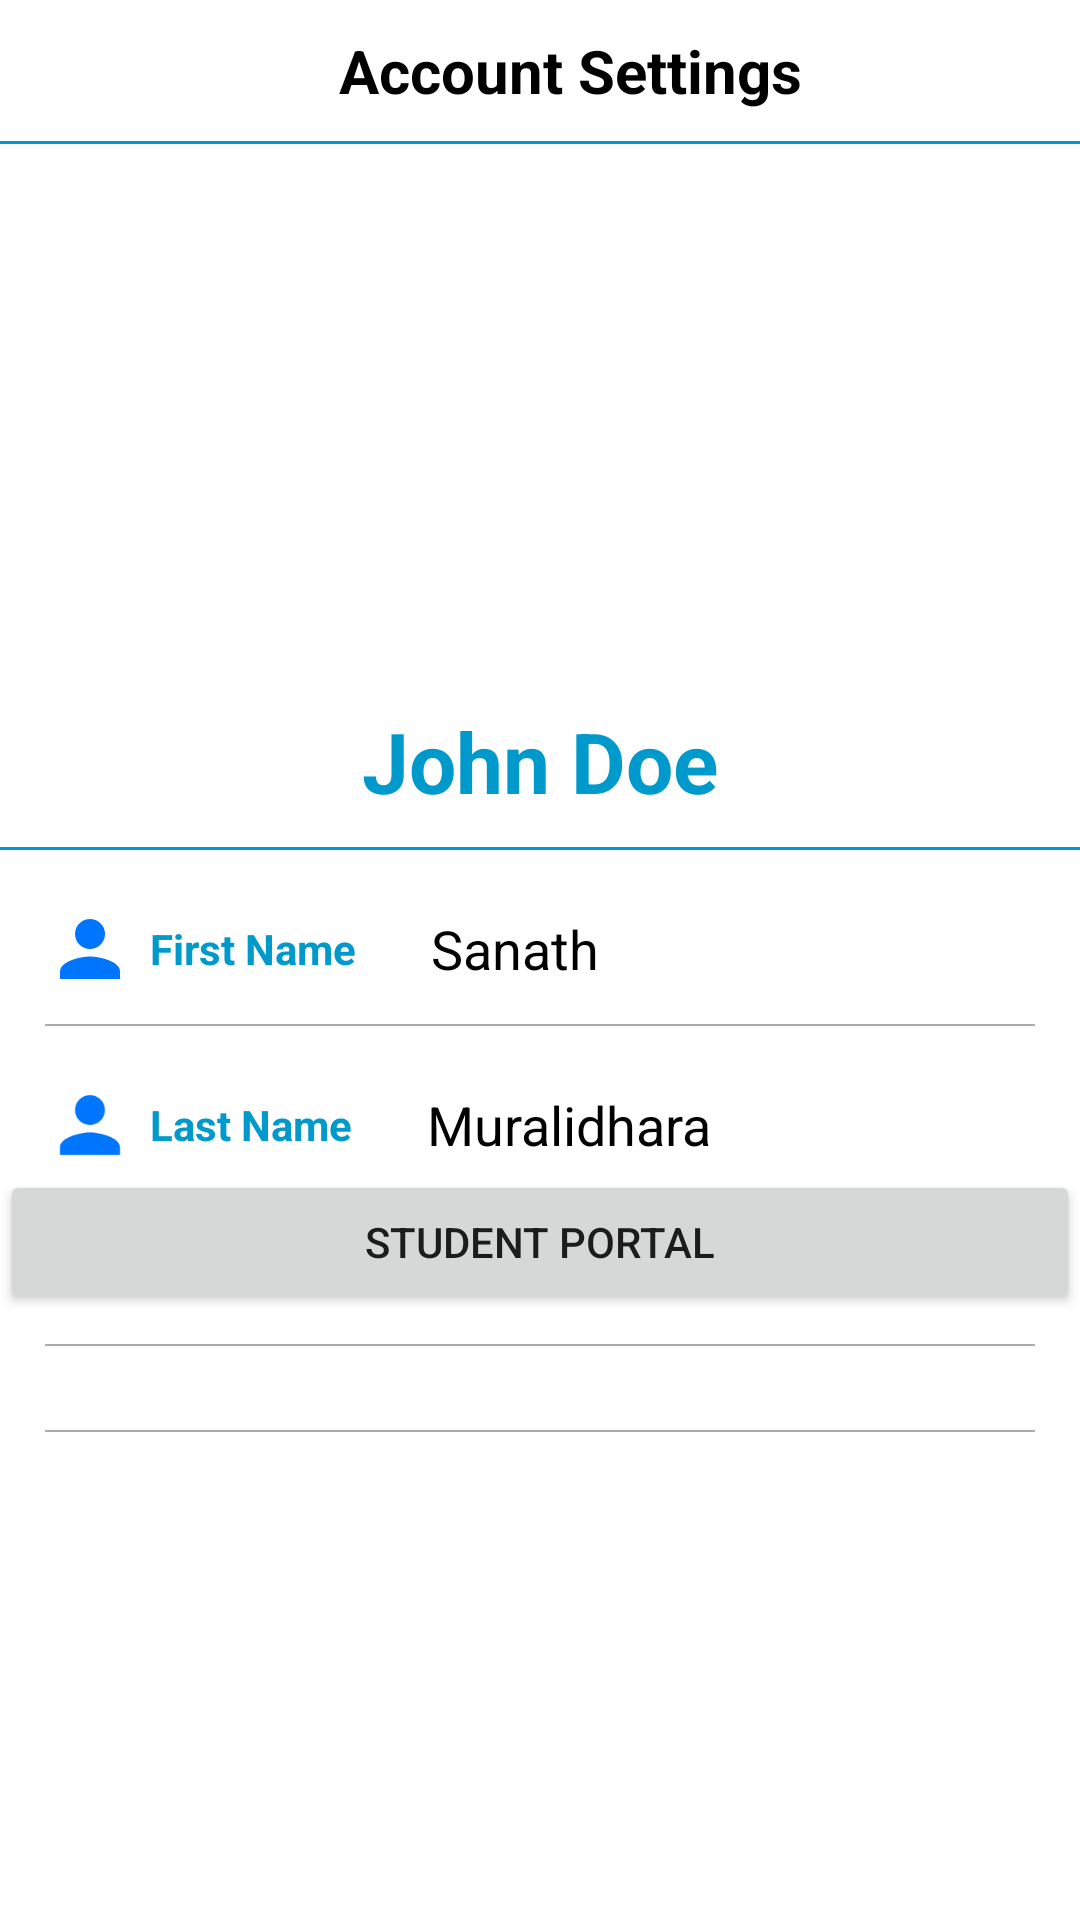

Icons on this 1080×1920 Android screen, each with the point to tap as point (x, y):
person: point (90, 949), point (90, 1125)
